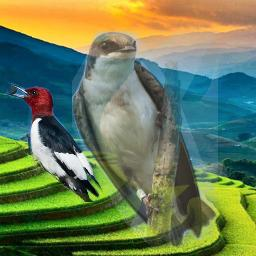Swallow: (72, 31, 218, 250)
Woodpecker: (5, 81, 105, 202)
